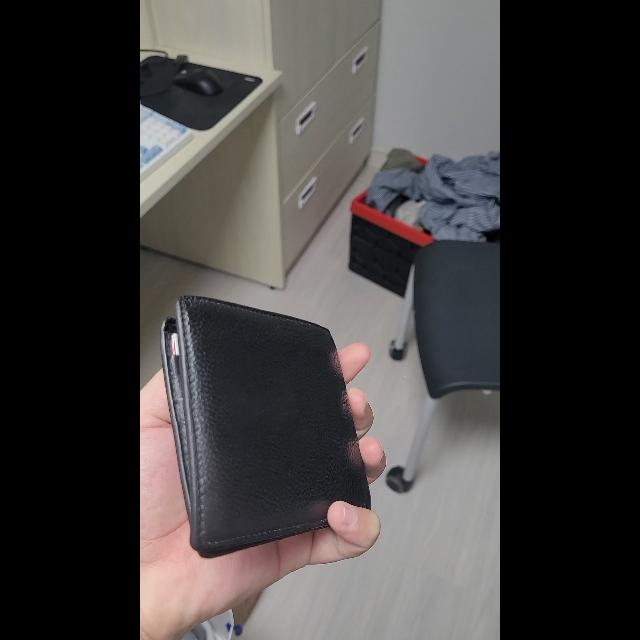WALLET: (160, 295, 370, 559)
